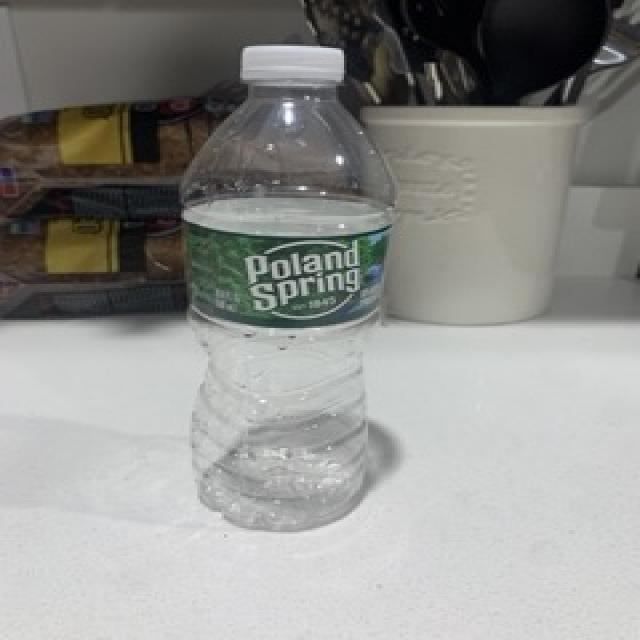water_bottle: (176, 41, 400, 533)
